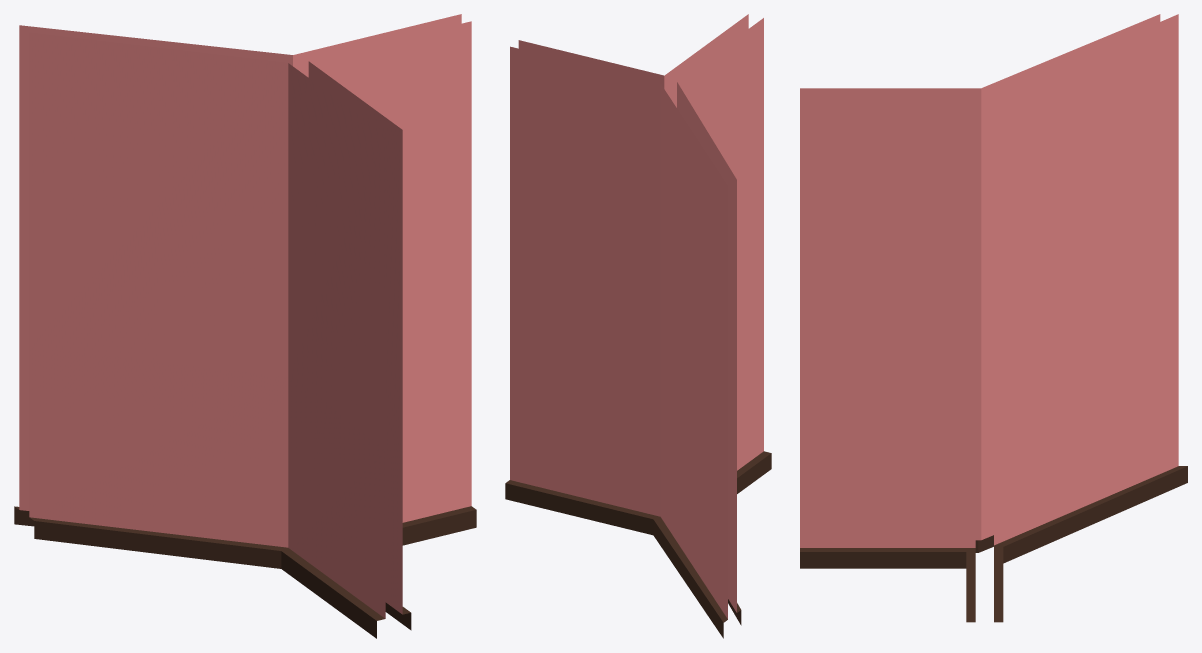
Rendered from SM_Y_Droite.fbx.
3 views of the same model, side by side, from view 1: azimuth 30°, elevation 25°; view 2: azimuth 150°, elevation 25°; view 3: azimuth 270°, elevation 25° (orthographic). The views are drawn at different scales.
Parts seen in each view (by area): view 1: SM_Y_Droite; view 2: SM_Y_Droite; view 3: SM_Y_Droite.
Boxes of the visible parts, <box> form: SM_Y_Droite: <box>14,14,476,638</box>; SM_Y_Droite: <box>505,14,771,638</box>; SM_Y_Droite: <box>800,14,1187,622</box>.
Bounding box in the file's own units: 2 × 2.8 × 2.1.
